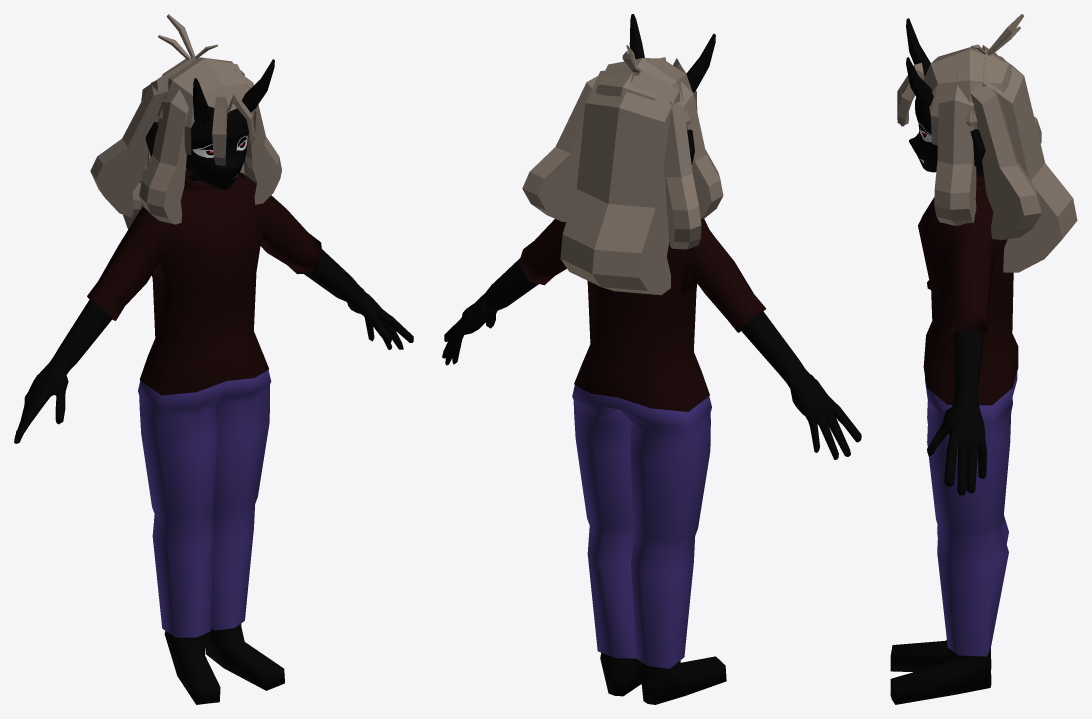
File: farlander_base_visualization.glb
3 renders of one model, left to right at view 1: azimuth 30°, elevation 25°; view 2: azimuth 150°, elevation 25°; view 3: azimuth 270°, elevation 25°, orthographic. The views are drawn at different scales.
Visible parts, largest first — view 1: Cube.069, Cube.070, Cube.057, Cube.062, Cube.061, Cube.063, Cube.086, eyes, Cube.067, Cube.058, mouth.001, Cube.060; view 2: Cube.070, Cube.069, Cube.060, Cube.057, Cube.061, Cube.062, Cube.063, Cube.086; view 3: Cube.070, Cube.069, Cube.057, Cube.060, Cube.061, Cube.062, Cube.063, Cube.086, Cube.059, eyes, mouth.001, Cube.068 (+2 smaller).
Boxes of the visible parts, bbox=[...] form: Cube.069: bbox=[87, 169, 322, 395]; Cube.070: bbox=[138, 370, 271, 637]; Cube.057: bbox=[14, 173, 413, 704]; Cube.062: bbox=[139, 69, 281, 224]; Cube.061: bbox=[90, 62, 247, 217]; Cube.063: bbox=[157, 58, 256, 154]; Cube.086: bbox=[193, 59, 274, 125]; eyes: bbox=[190, 130, 248, 169]; Cube.067: bbox=[186, 106, 248, 179]; Cube.058: bbox=[212, 97, 227, 165]; mouth.001: bbox=[191, 154, 245, 190]; Cube.060: bbox=[123, 56, 232, 229]; Cube.070: bbox=[572, 385, 711, 668]; Cube.069: bbox=[518, 218, 766, 411]; Cube.060: bbox=[560, 67, 680, 294]; Cube.057: bbox=[442, 258, 861, 704]; Cube.061: bbox=[522, 75, 701, 249]; Cube.062: bbox=[674, 75, 723, 218]; Cube.063: bbox=[595, 58, 696, 125]; Cube.086: bbox=[629, 14, 715, 92]; Cube.070: bbox=[924, 372, 1017, 656]; Cube.069: bbox=[918, 175, 1018, 405]; Cube.057: bbox=[890, 166, 991, 704]; Cube.060: bbox=[982, 45, 1077, 272]; Cube.061: bbox=[970, 50, 1041, 239]; Cube.062: bbox=[934, 50, 976, 225]; Cube.063: bbox=[924, 47, 1012, 145]; Cube.086: bbox=[906, 18, 933, 109]; Cube.059: bbox=[897, 70, 923, 126]; eyes: bbox=[914, 120, 937, 149]; mouth.001: bbox=[910, 144, 937, 172]; Cube.068: bbox=[970, 129, 985, 167].
Bounding box in the file's own units: 4.71 × 7.25 × 1.85.
6 materials, 2 textured.
